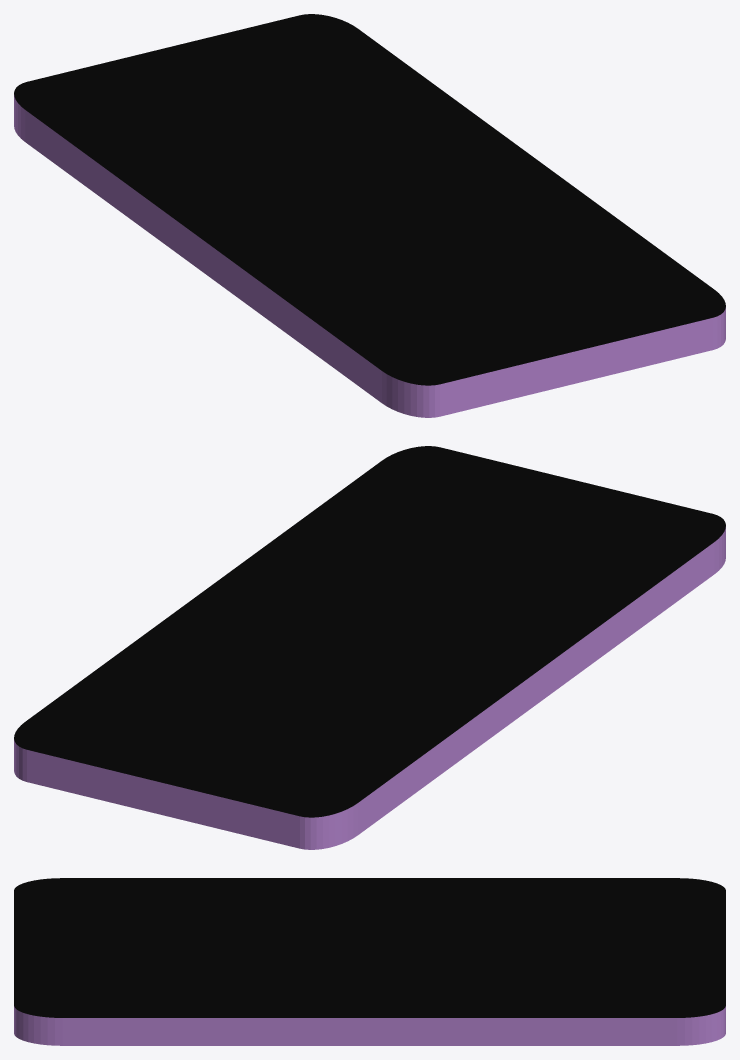
3 views of the same model, one above another, from view 1: azimuth 30°, elevation 25°; view 2: azimuth 150°, elevation 25°; view 3: azimuth 270°, elevation 25° (orthographic). The views are drawn at different scales.
Visible parts, largest first — view 1: Cube; view 2: Cube; view 3: Cube.
Boxes of the visible parts, <box> form: Cube: <box>14,14,725,417</box>; Cube: <box>14,446,725,849</box>; Cube: <box>14,878,725,1045</box>.
Bounding box in the file's own units: 148 × 13.77 × 319.
